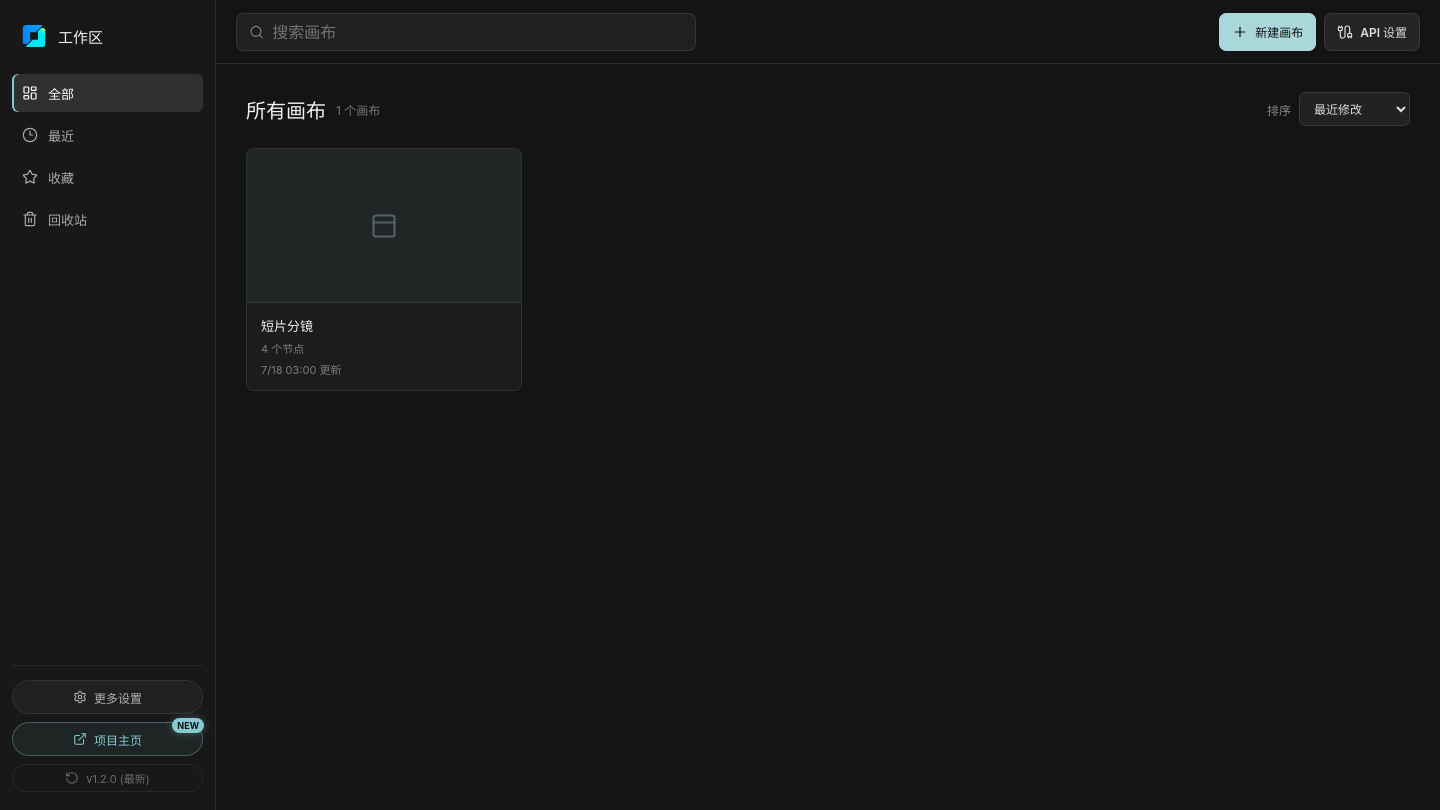
workspace home view › keeps an individually trashed project canvas reachable in the recycle bin
This screenshot has width=1440, height=810.
Later steps or results of the test are not shown.
Step 1. Click the button "回收站" → [108, 219], box x1=12 y1=200 x2=203 y2=238
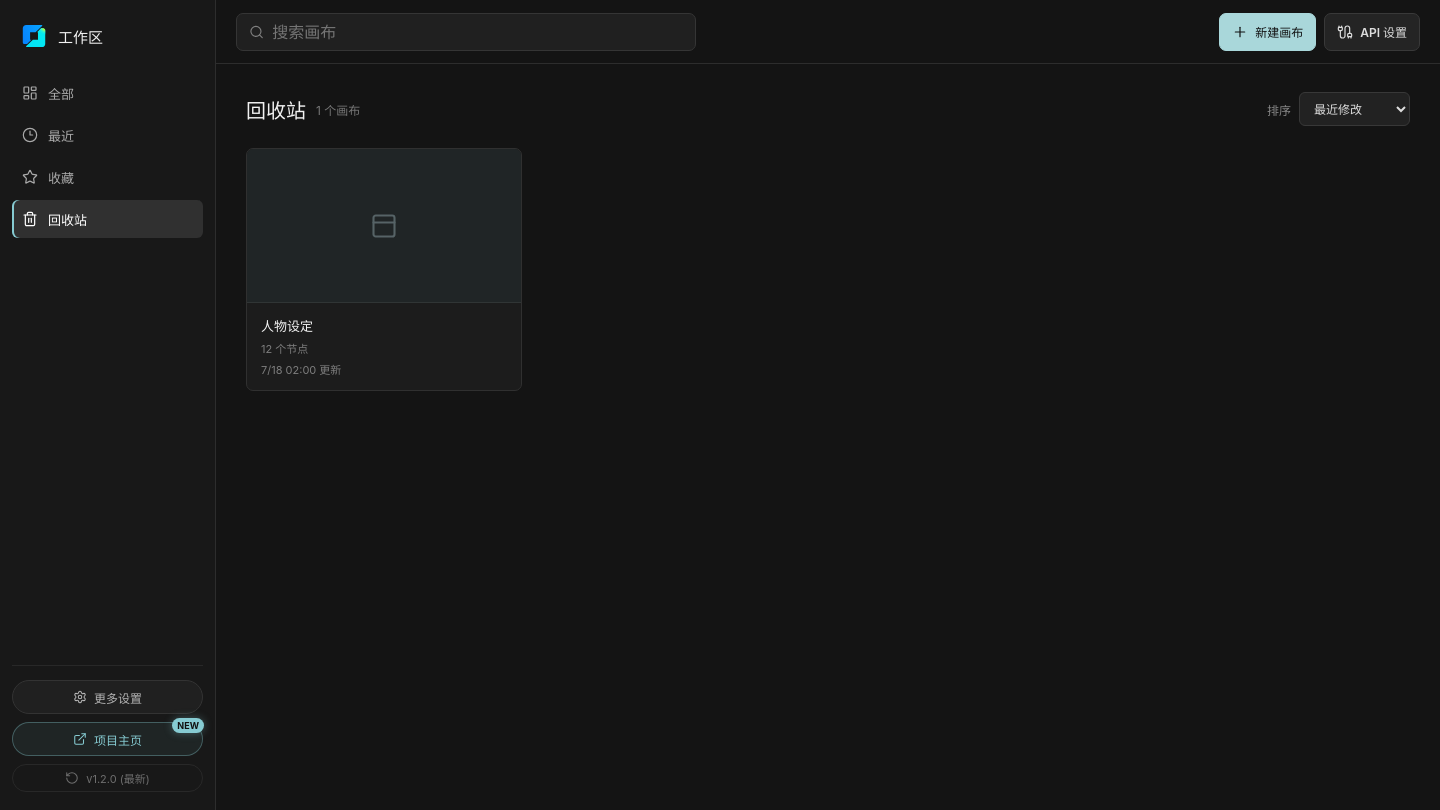
Now the button with aria-label "人物设定，12 个节点" is shown, box x1=247 y1=149 x2=521 y2=390
